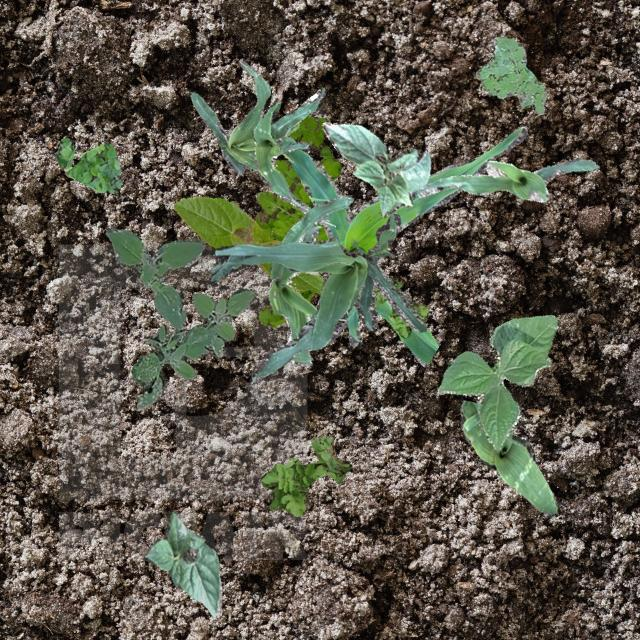crop: (276, 126, 526, 366), (210, 212, 426, 382), (436, 314, 556, 449), (172, 195, 322, 294), (268, 194, 352, 364), (190, 59, 308, 174), (458, 399, 556, 516), (320, 120, 430, 217), (252, 86, 328, 225), (416, 158, 596, 202), (144, 512, 220, 616)
weed: (105, 228, 256, 410), (254, 115, 340, 326), (260, 434, 350, 516), (474, 36, 546, 114), (51, 136, 120, 192), (372, 274, 428, 336)
